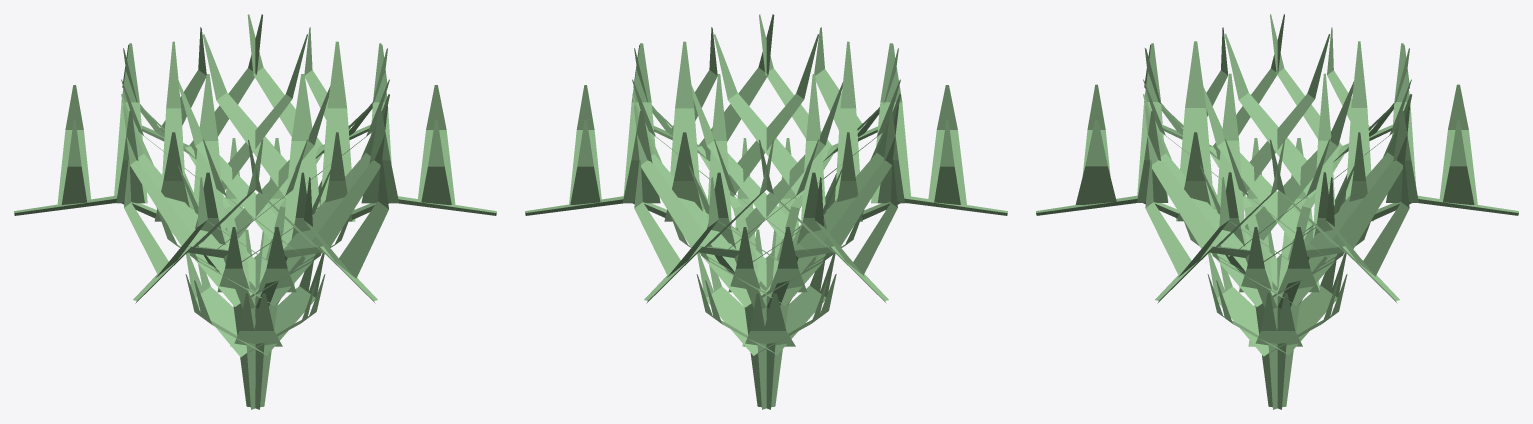
Rendered from fern_clump.glb.
3 views of the same model, side by side, from view 1: azimuth 30°, elevation 25°; view 2: azimuth 150°, elevation 25°; view 3: azimuth 270°, elevation 25° (orthographic).
Parts seen in each view (by area): view 1: fern-clump; view 2: fern-clump; view 3: fern-clump.
Part boxes in pixels (x1,y1,x2,y2): fern-clump: (14,14,496,409); fern-clump: (525,14,1007,409); fern-clump: (1036,14,1518,409).
Bounding box in the file's own units: 0.6539 × 0.5655 × 0.7507.
